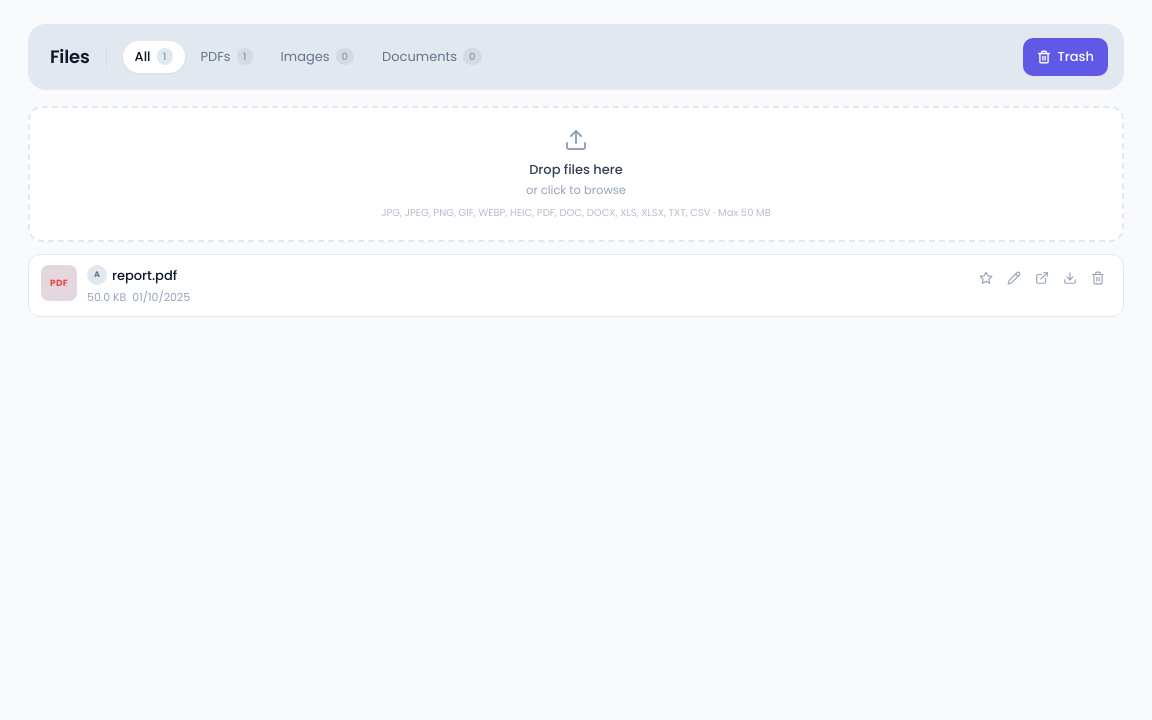
Test case: FileManager › FE-COMP-FILEMANAGER-019: clicking assign button opens assign modal
Pencil/assign button
Click the button titled "assign": (1014, 278) 1001,265 -> 1027,291
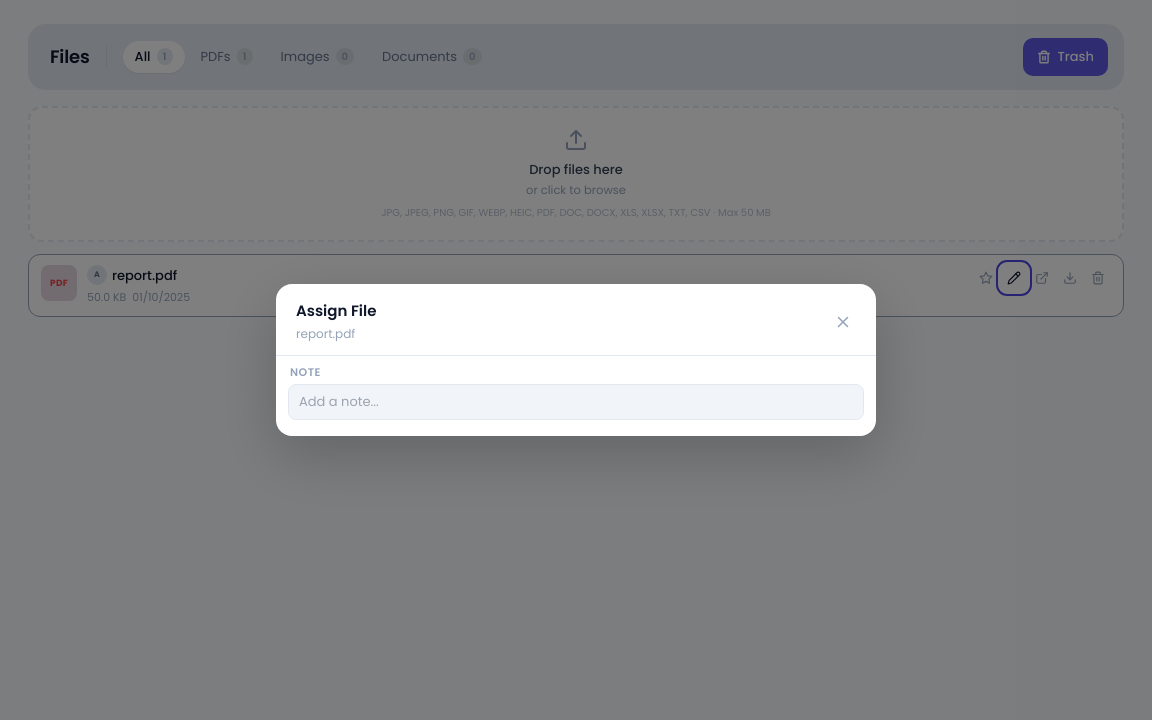
Result: the text "Assign File" is shown at 296,300 -> 376,321
